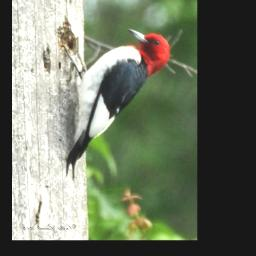Woodpecker: (67, 27, 171, 177)
